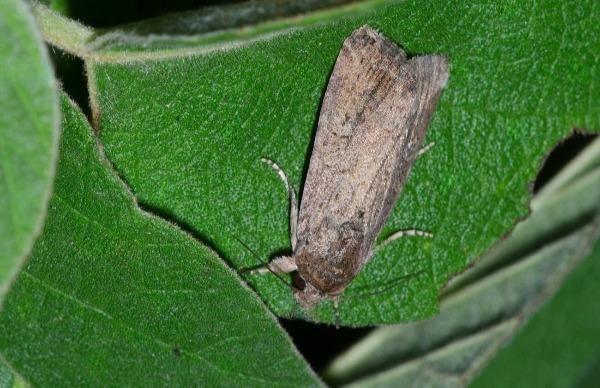army worm adult: (241, 15, 455, 337)
